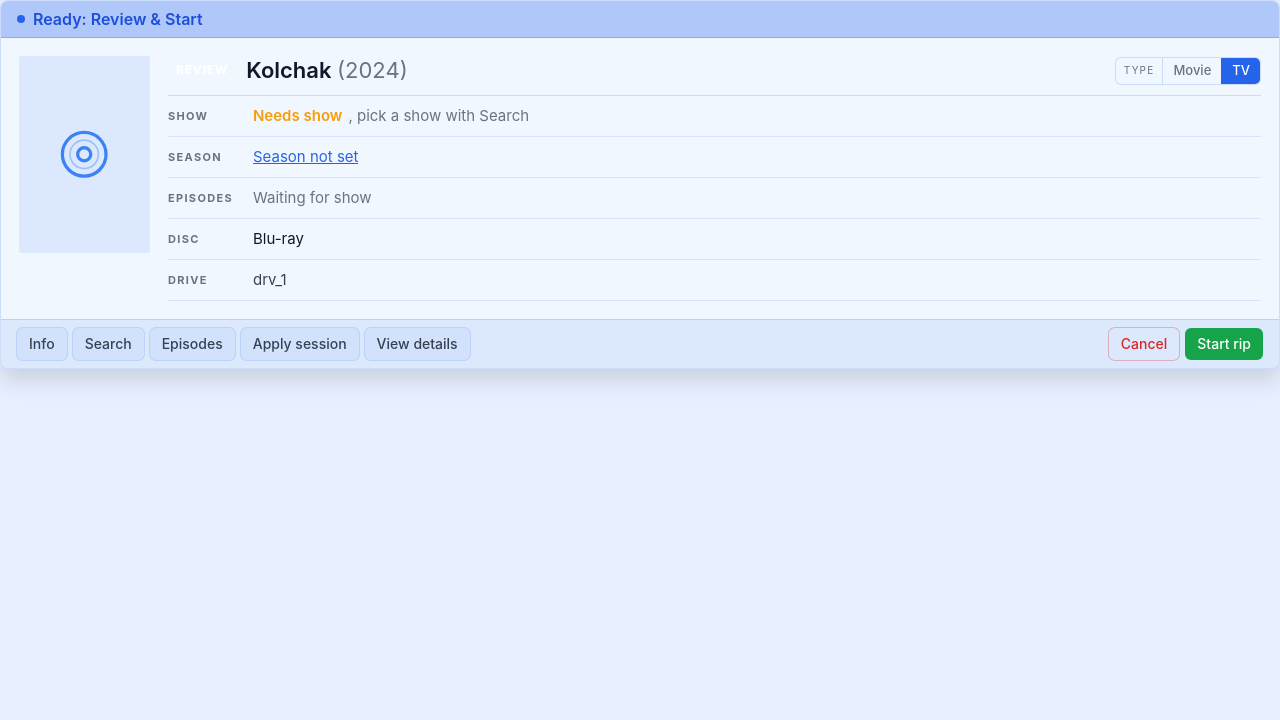
DiscReviewWidget episode matching › the panel's series search opens Search looking for TV
The image size is (1280, 720).
Click the button "Episodes". click: (192, 344)
box: [150,328,235,360]
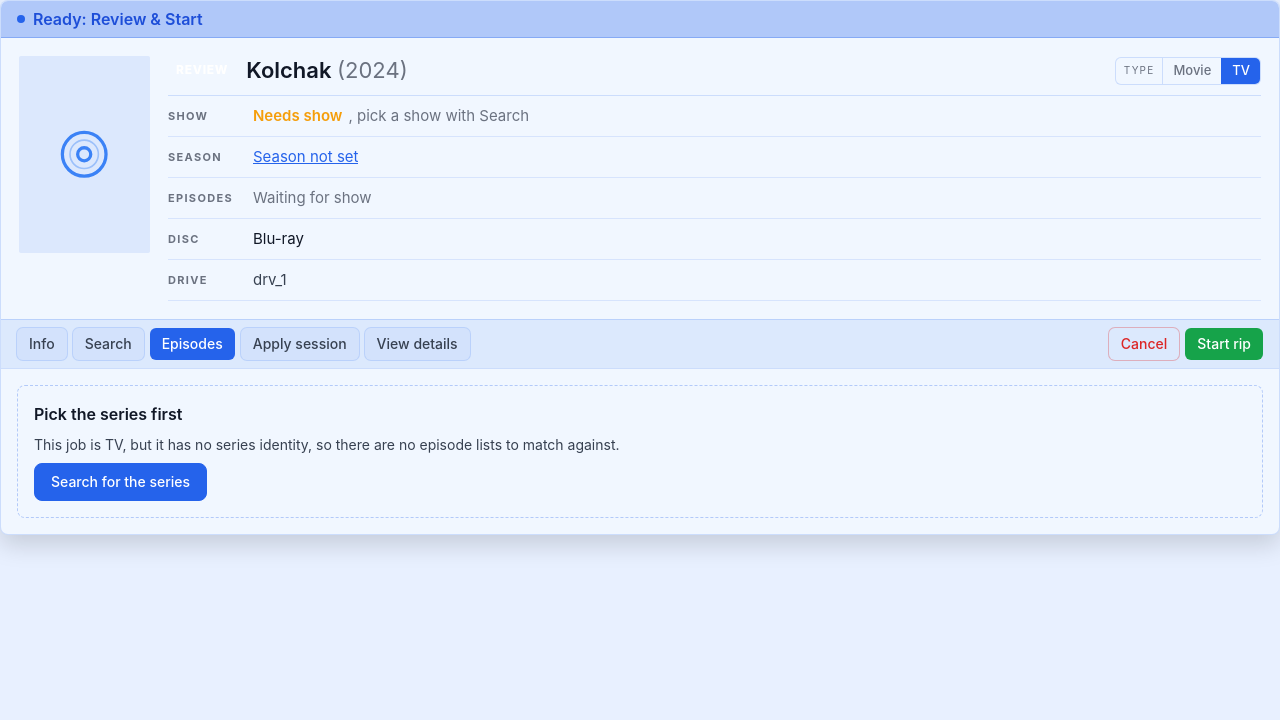
Click the button "Search for the series". click: (120, 482)
box: [34,462,207,500]
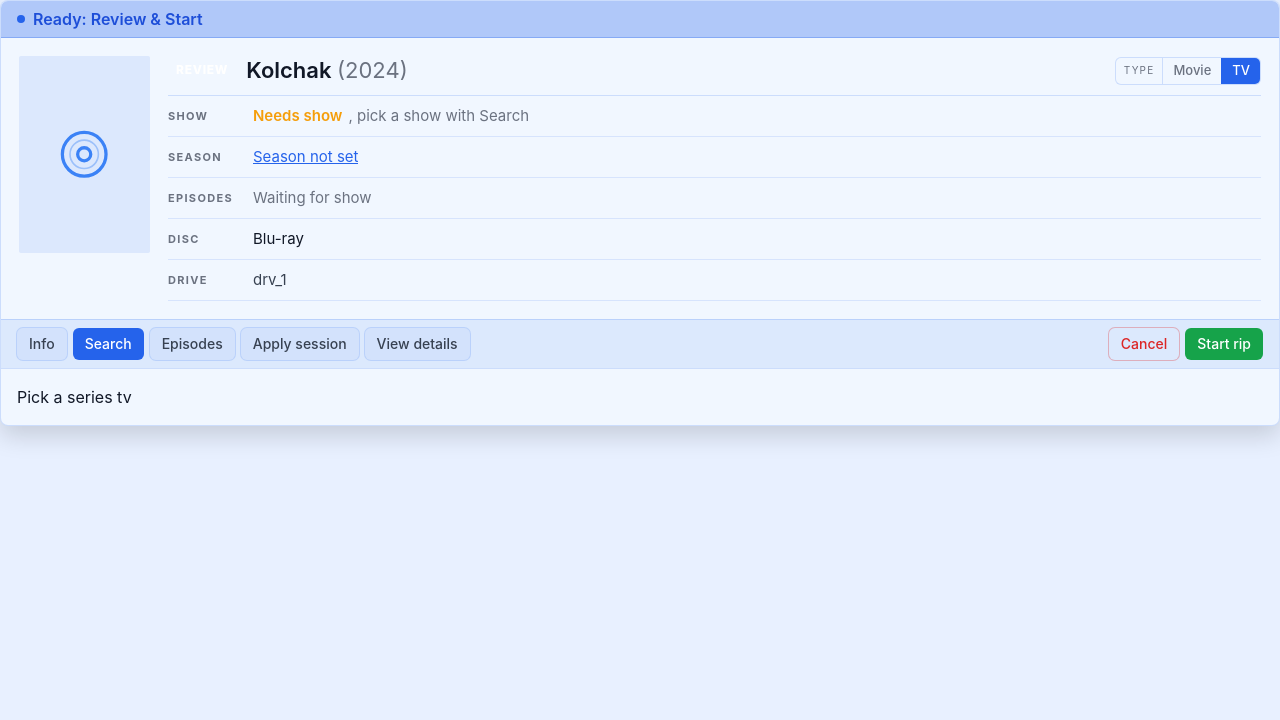
Check: the text with test id "title-initial-type" reads "tv", box [117,386,132,406]
Check: the element with test id "episode-panel" is gone
// Opening Search from its own button starts with the job's type again.
Click the button "Search". click: (108, 344)
box: [73,328,144,360]
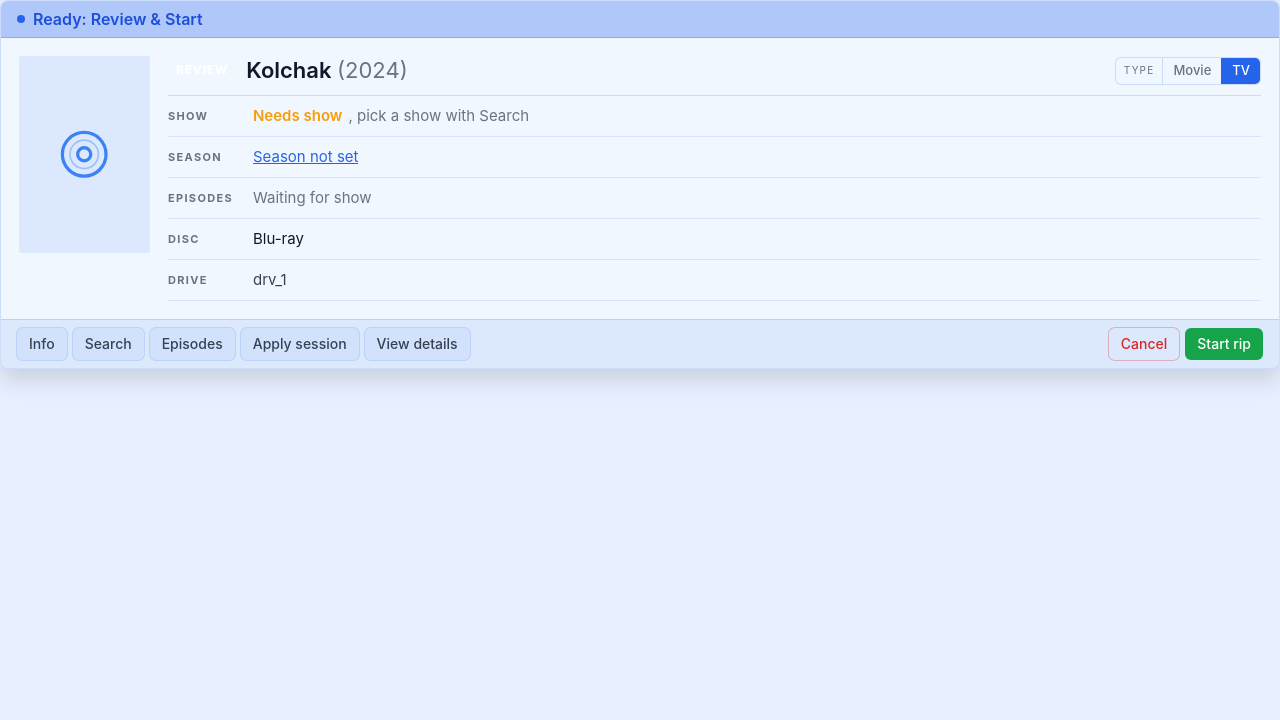
Click the button "Search". click: (108, 344)
box: [73,328,144,360]
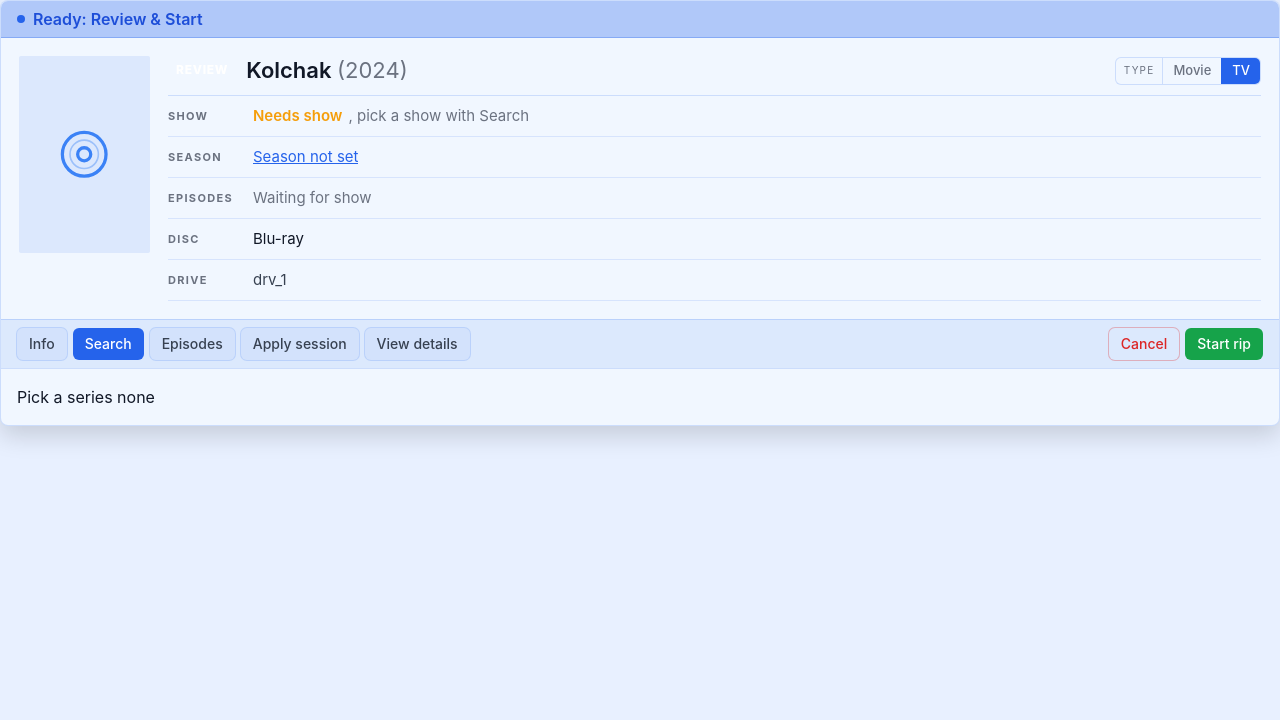
Check: the text with test id "title-initial-type" reads "none", box [117,386,155,406]
